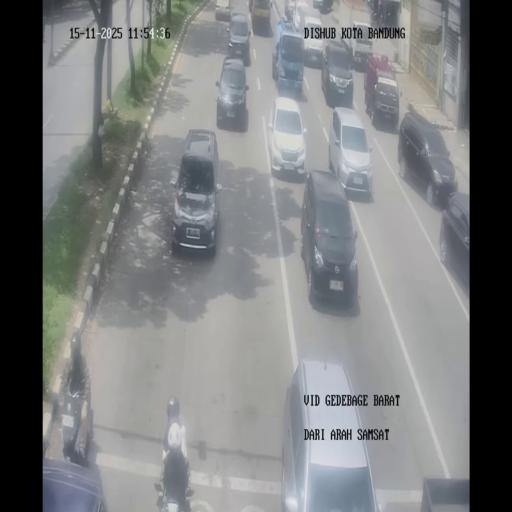3: (364, 54, 400, 128), (250, 1, 272, 35)
car: (284, 357, 382, 506), (302, 171, 360, 305), (170, 129, 221, 254), (398, 112, 458, 207), (330, 106, 374, 197), (267, 96, 307, 182), (438, 194, 469, 293), (215, 55, 249, 129), (321, 41, 354, 108), (295, 8, 325, 67), (227, 11, 252, 66), (348, 20, 374, 70), (215, 0, 231, 21), (285, 0, 298, 23)
truck: (59, 360, 94, 463), (154, 445, 194, 510), (370, 1, 381, 24)
